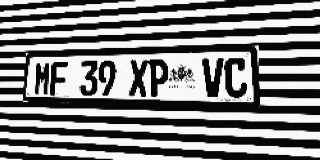3: (80, 61, 98, 96)
9: (97, 60, 116, 96)
C: (224, 57, 248, 98)
F: (50, 61, 68, 95)
M: (34, 62, 51, 95)
P: (148, 59, 168, 97)
V: (202, 58, 224, 97)
X: (129, 60, 148, 96)
